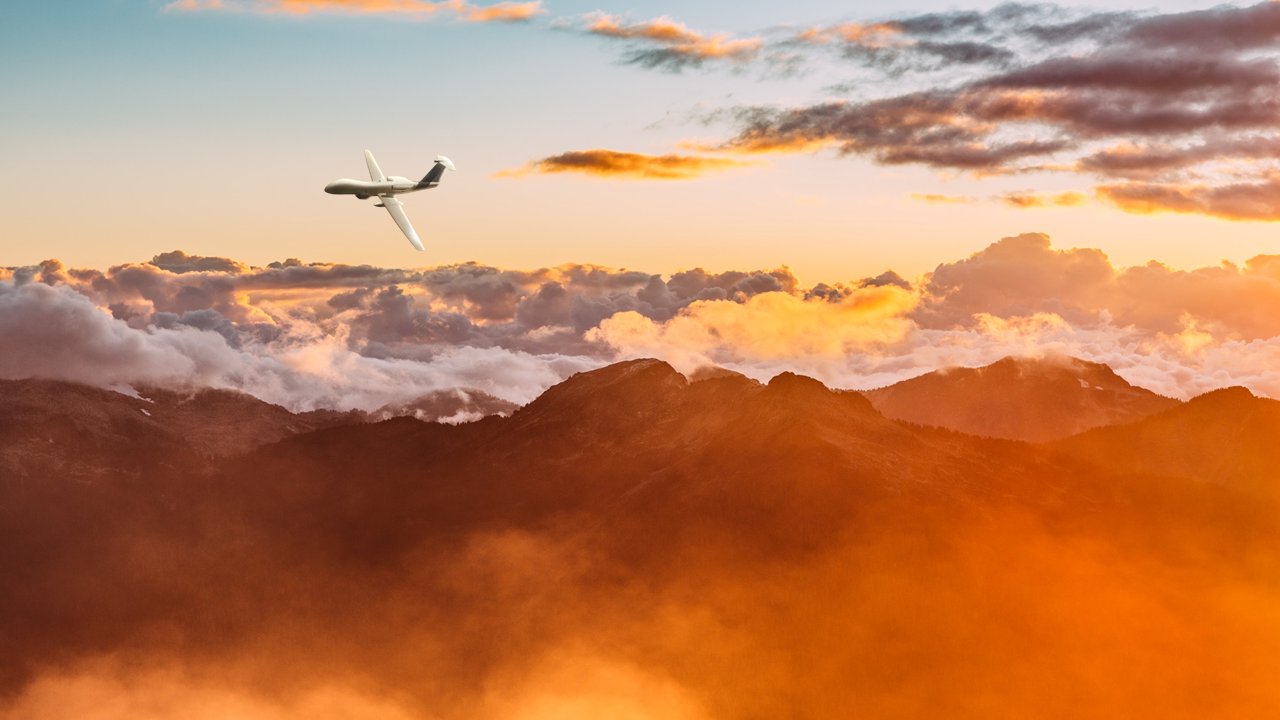military drone: (323, 149, 455, 250)
